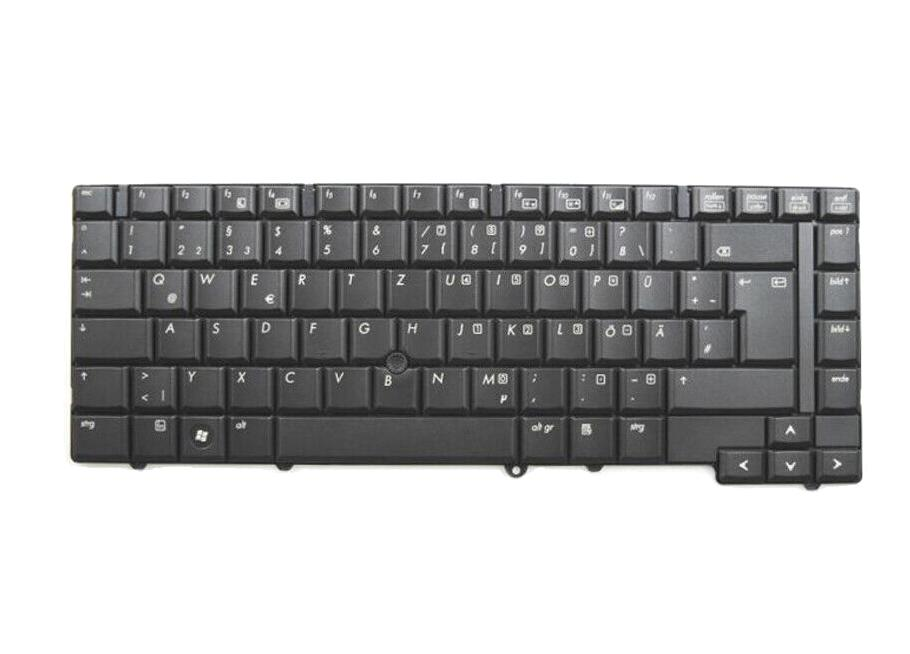0: (559, 218, 602, 262)
1: (119, 217, 160, 262)
2: (167, 217, 208, 261)
3: (215, 217, 258, 261)
4: (264, 217, 304, 260)
5: (312, 217, 354, 261)
6: (361, 217, 402, 261)
7: (411, 217, 455, 263)
8: (461, 217, 502, 263)
9: (509, 217, 552, 262)
a: (154, 315, 195, 358)
accent: (655, 218, 697, 261)
ae: (645, 316, 686, 359)
alt-left: (226, 414, 271, 458)
altgr-right: (519, 413, 564, 457)
b: (371, 365, 416, 408)
c: (275, 364, 318, 409)
caret: (71, 218, 111, 260)
comma: (521, 365, 562, 409)
d: (251, 315, 292, 359)
del: (705, 219, 792, 262)
e: (239, 265, 282, 310)
enter: (726, 267, 795, 360)
f: (301, 315, 342, 359)
g: (349, 315, 390, 358)
h: (399, 316, 440, 357)
hash: (692, 316, 733, 359)
i: (486, 267, 527, 309)
j: (447, 315, 491, 359)
k: (497, 315, 540, 359)
keyboard: (61, 179, 874, 483)
l: (546, 316, 589, 359)
less: (129, 362, 171, 409)
m: (470, 364, 517, 410)
minus: (620, 365, 662, 408)
n: (422, 364, 464, 408)
o: (532, 266, 576, 310)
oe: (594, 316, 638, 359)
p: (583, 266, 625, 310)
plus: (679, 266, 721, 310)
point: (570, 365, 615, 408)
q: (141, 265, 185, 310)
r: (288, 266, 330, 309)
s: (202, 315, 244, 358)
shift-left: (69, 365, 123, 407)
shift-lock: (71, 315, 148, 358)
shift-right: (667, 365, 794, 408)
space: (275, 413, 513, 459)
ss: (606, 217, 647, 262)
strg-left: (69, 413, 127, 458)
strg-right: (617, 414, 662, 458)
t: (338, 266, 378, 309)
tab: (71, 266, 133, 309)
u: (434, 266, 479, 310)
ue: (631, 266, 673, 310)
v: (325, 364, 368, 407)
w: (191, 265, 232, 309)
x: (227, 364, 269, 408)
y: (179, 364, 221, 409)
z: (386, 266, 427, 310)
